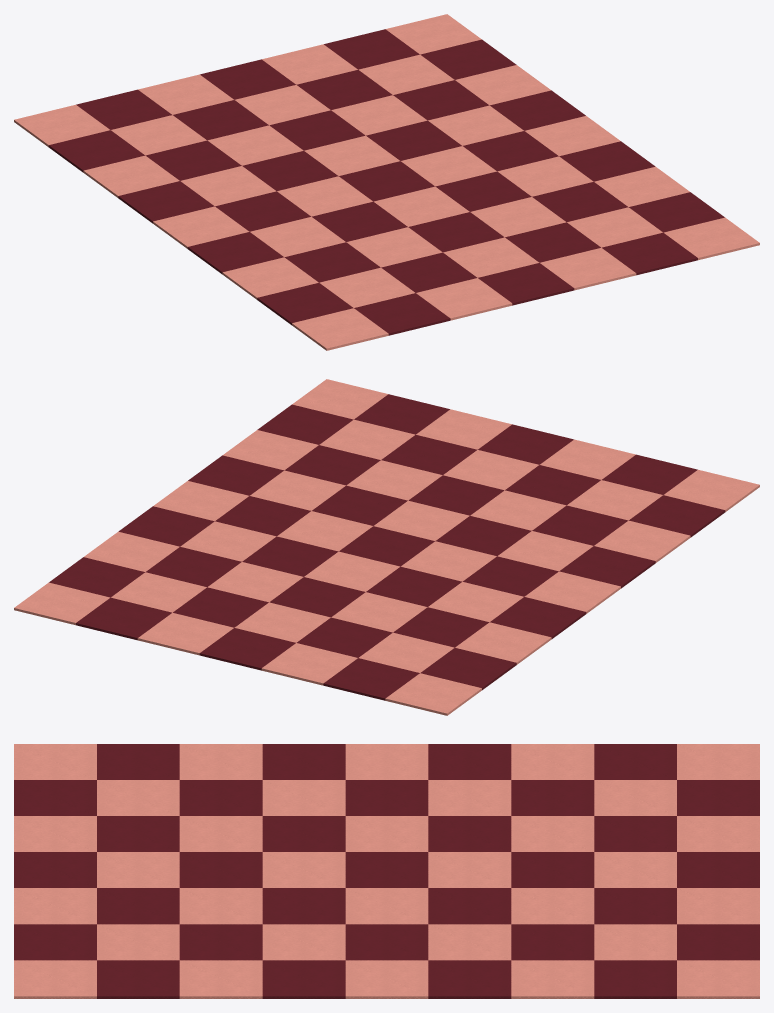
The model's file is alfombra-cuadros-rosa-rojo-200x250.glb.
3 views of the same model, one above another, from view 1: azimuth 30°, elevation 25°; view 2: azimuth 150°, elevation 25°; view 3: azimuth 270°, elevation 25° (orthographic). The views are drawn at different scales.
Parts seen in each view (by area): view 1: alfombra-cuadros; view 2: alfombra-cuadros; view 3: alfombra-cuadros.
Part boxes in pixels (x1=…): alfombra-cuadros: x1=14, y1=14, x2=759, y2=350; alfombra-cuadros: x1=14, y1=379, x2=759, y2=715; alfombra-cuadros: x1=14, y1=744, x2=759, y2=998.
Size of the model in its own units: 2 by 0.01 by 2.5.
Materials: 2 (2 with a texture image).
